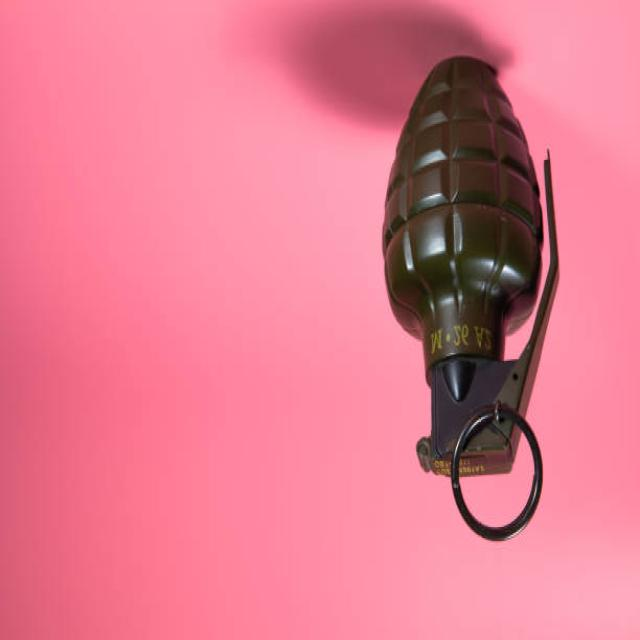grenade: (373, 51, 570, 557)
